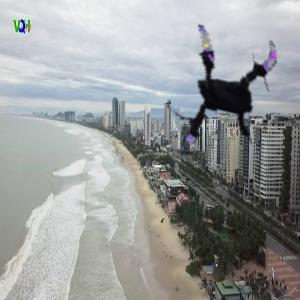drone: (149, 20, 298, 169)
